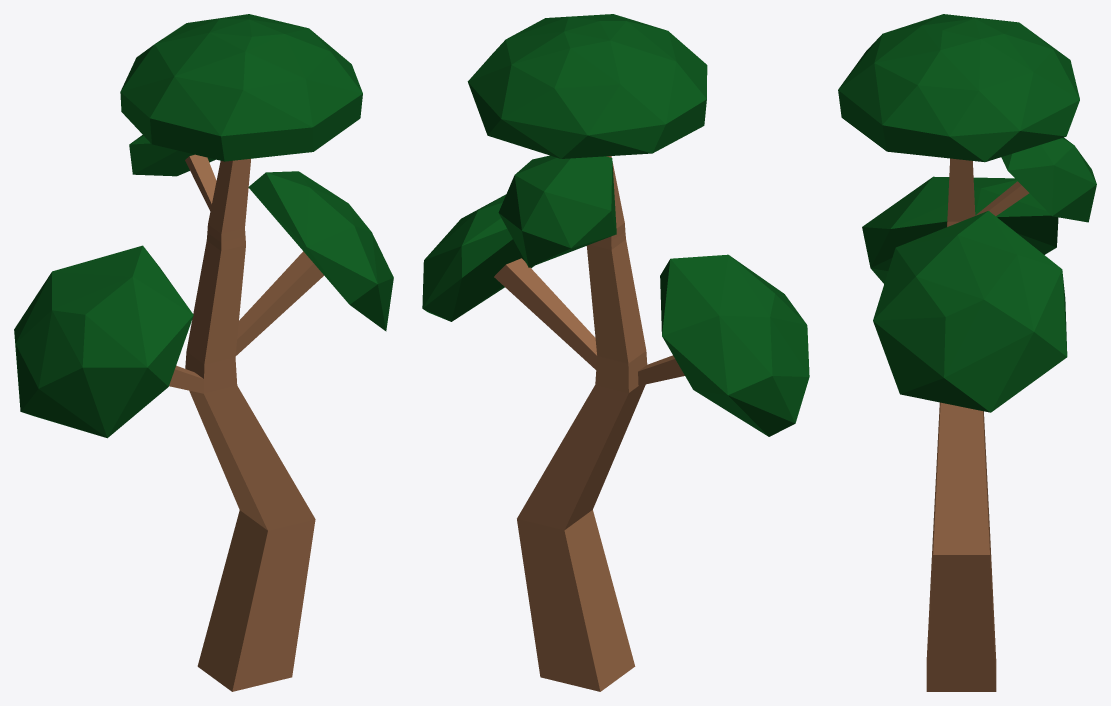
Rendered from tree-summer-complete-39-050.glb.
3 views of the same model, side by side, from view 1: azimuth 30°, elevation 25°; view 2: azimuth 150°, elevation 25°; view 3: azimuth 270°, elevation 25° (orthographic).
Parts seen in each view (by area): view 1: Tree 39_114; view 2: Tree 39_114; view 3: Tree 39_114.
Boxes of the visible parts, left/top/right/bottom form: Tree 39_114: left=14, top=14, right=393, bottom=691; Tree 39_114: left=422, top=14, right=809, bottom=691; Tree 39_114: left=838, top=14, right=1096, bottom=691.
Size of the model in its own units: 1 by 1.71 by 0.6198.
